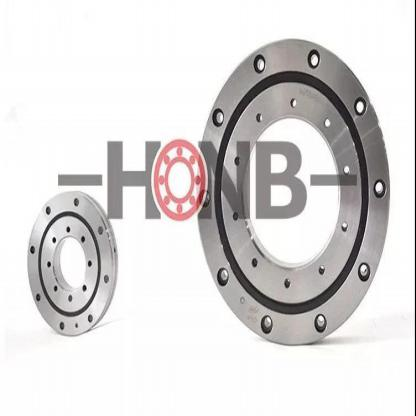FOD: (192, 33, 393, 352), (25, 187, 119, 340)
